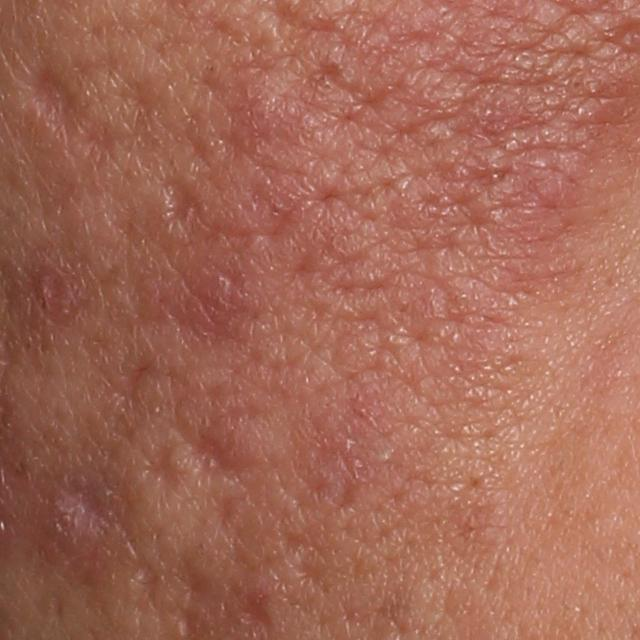atrophic_scar: (168, 411, 269, 480), (82, 338, 162, 423), (19, 57, 89, 148), (55, 472, 125, 541), (139, 436, 192, 497), (160, 175, 206, 237)
